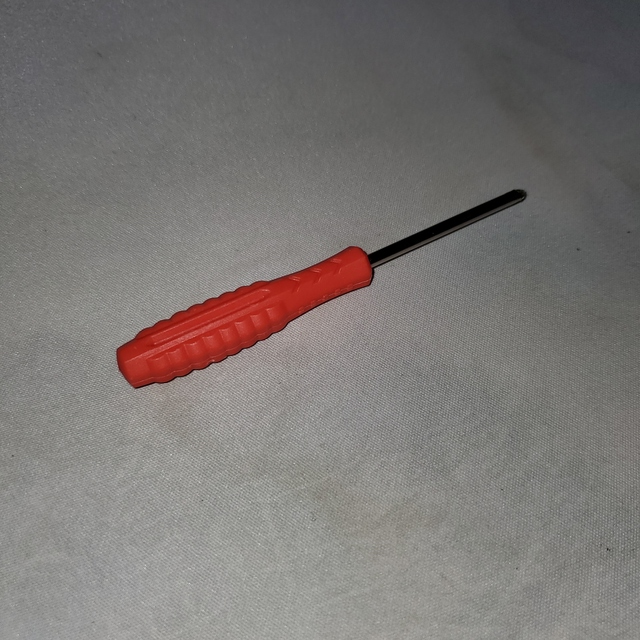screwdriver: (111, 177, 536, 399)
